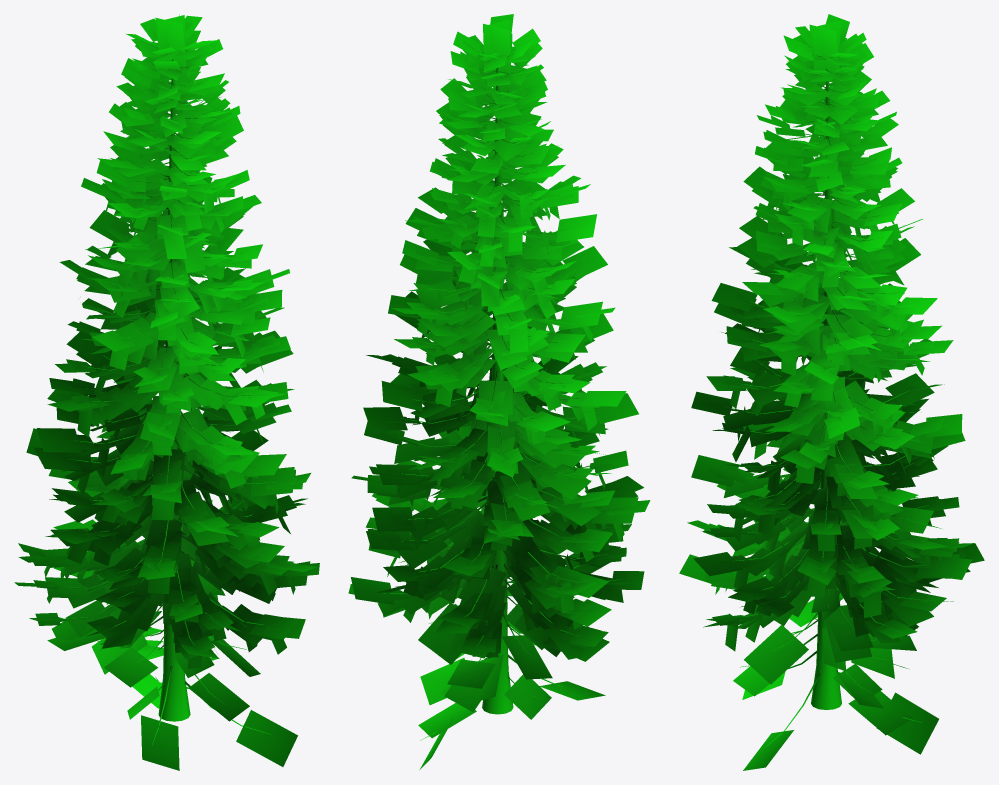
The model's file is tree_spruce_a.glb.
The picture shows the model from 3 angles, left to right: view 1: azimuth 30°, elevation 25°; view 2: azimuth 150°, elevation 25°; view 3: azimuth 270°, elevation 25°; orthographic projection. The views are drawn at different scales.
Parts seen in each view (by area): view 1: tree_spruce_a.2, tree_spruce_a.1, tree_spruce_a.0; view 2: tree_spruce_a.2, tree_spruce_a.1, tree_spruce_a.0; view 3: tree_spruce_a.2, tree_spruce_a.1, tree_spruce_a.0.
Part boxes in pixels (x1=…): tree_spruce_a.2: x1=14, y1=14, x2=319, y2=668; tree_spruce_a.1: x1=47, y1=573, x2=297, y2=770; tree_spruce_a.0: x1=49, y1=45, x2=281, y2=744; tree_spruce_a.2: x1=348, y1=14, x2=650, y2=659; tree_spruce_a.1: x1=418, y1=581, x2=609, y2=769; tree_spruce_a.0: x1=383, y1=49, x2=622, y2=740; tree_spruce_a.2: x1=679, y1=14, x2=984, y2=651; tree_spruce_a.1: x1=733, y1=575, x2=938, y2=770; tree_spruce_a.0: x1=725, y1=47, x2=936, y2=746.
Size of the model in its own units: 6.79 by 17.98 by 6.99.
